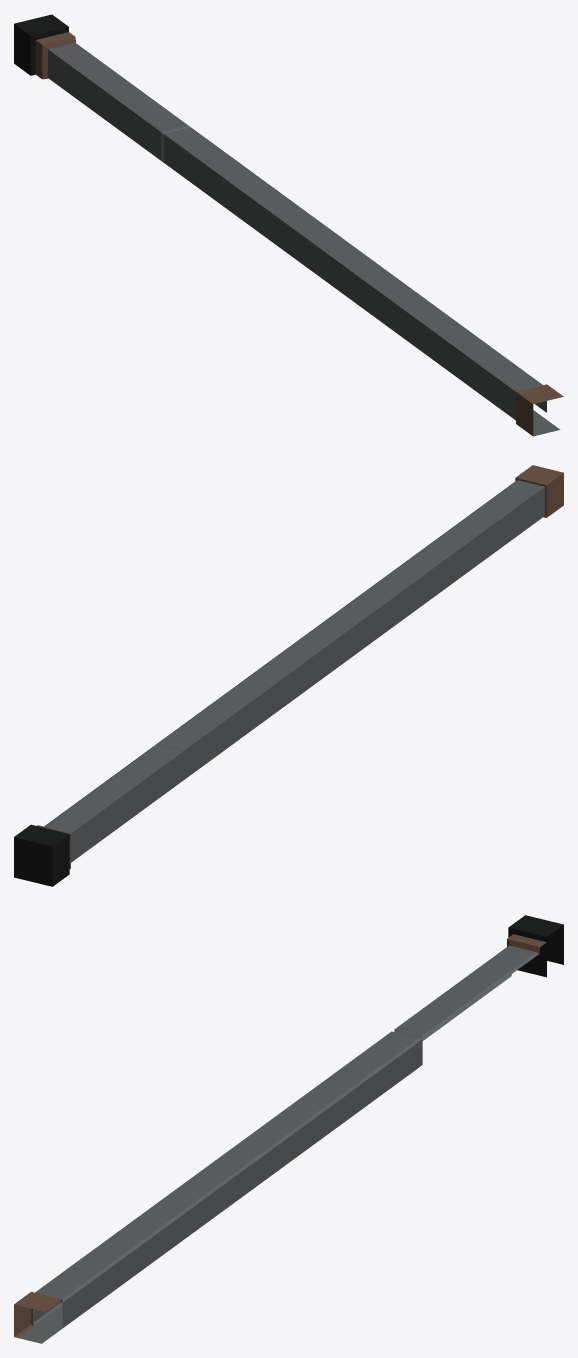
Rendered from BLD_m30_corner_02_a.fbx.
The picture shows the model from 3 angles, top to bottom: view 1: azimuth 30°, elevation 25°; view 2: azimuth 150°, elevation 25°; view 3: azimuth 330°, elevation 25°; orthographic projection.
Visible parts, largest first — view 1: BLD_m30_corner_02_a; view 2: BLD_m30_corner_02_a; view 3: BLD_m30_corner_02_a.
Part boxes in pixels (left/top/right/bottom): BLD_m30_corner_02_a: left=14, top=14, right=563, bottom=436; BLD_m30_corner_02_a: left=14, top=465, right=563, bottom=886; BLD_m30_corner_02_a: left=14, top=915, right=563, bottom=1343.
Bounding box in the file's own units: 258 × 258 × 6000.
